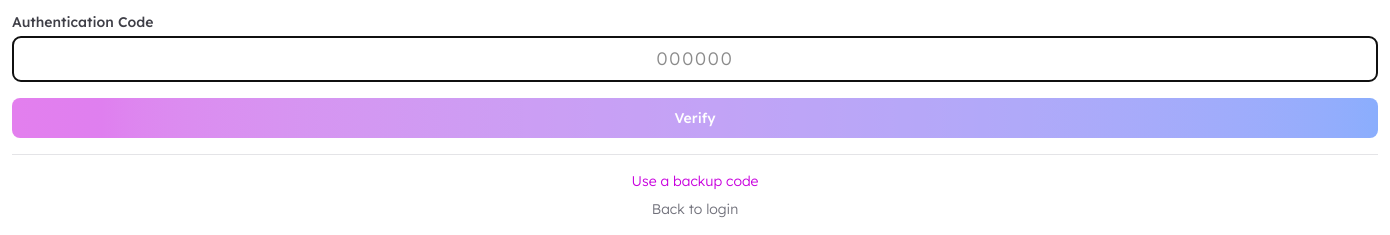
TwoFactorForm › switches to backup code mode
This screenshot has width=1390, height=235.
Click the button with test id "switch-to-backup".
click(695, 181)  # box [12,171,1378,191]
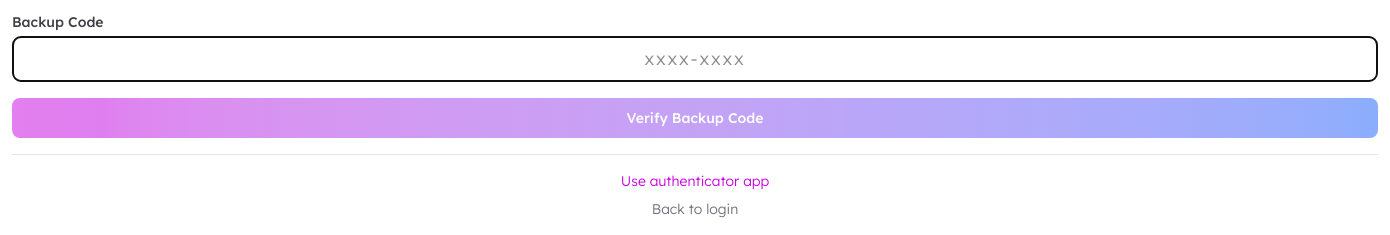
Now the field with test id "backup-code-input" is shown, box [12,36,1378,82]
Now the button with test id "backup-code-submit" is shown, box [12,98,1378,138]
